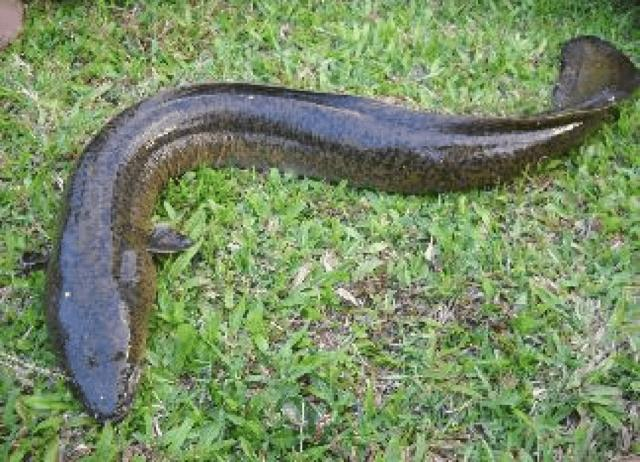Sirip Dada: (5, 217, 213, 284)
Sirip Ekor: (522, 19, 640, 156)
